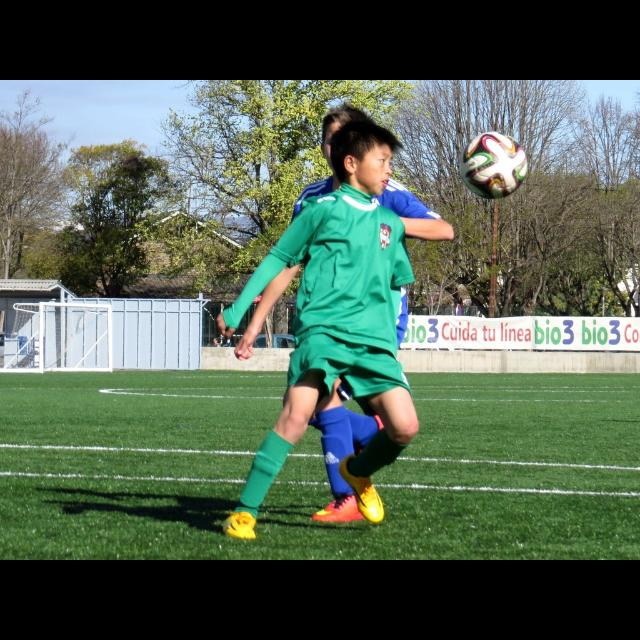Football: (457, 130, 529, 198)
